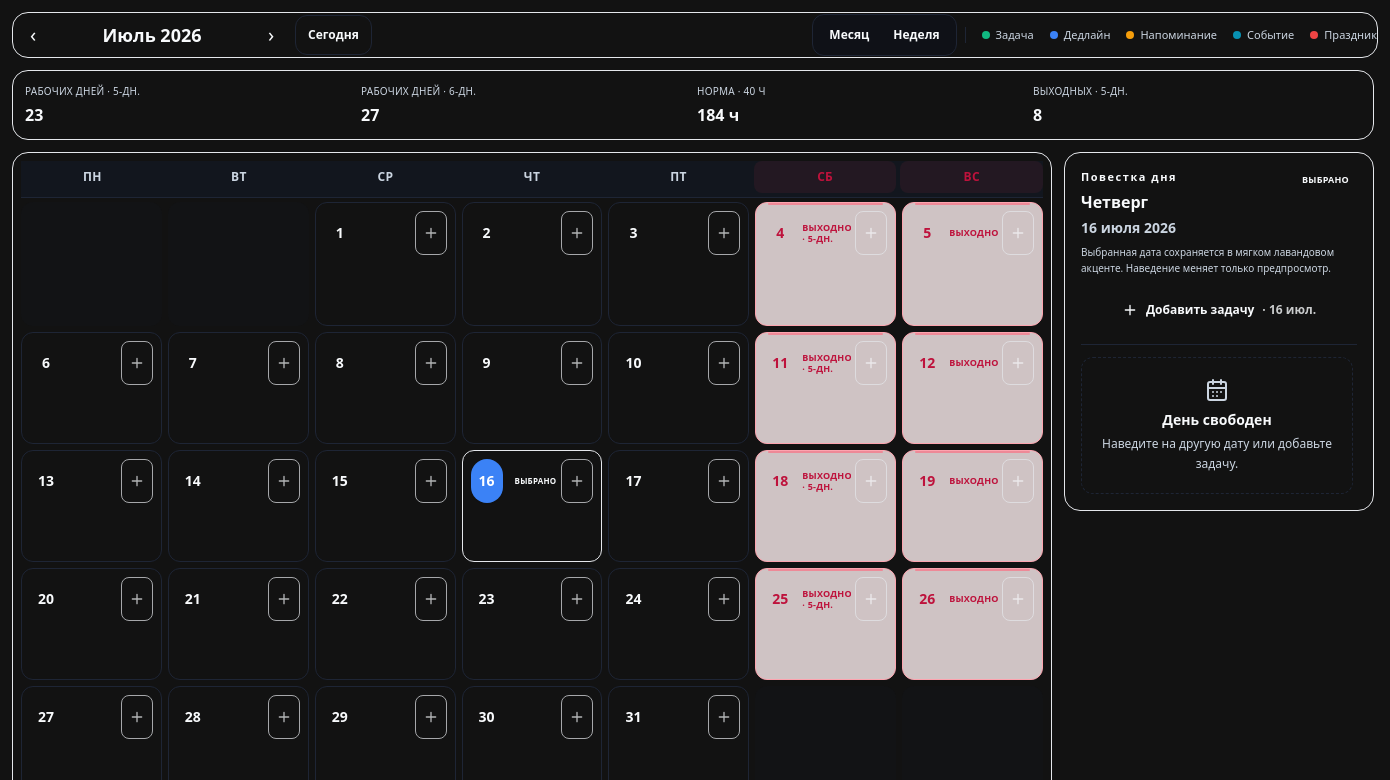
it: CalendarView › renders week mode as a readable agenda with the persistent preview
Click the button "Неделя" at (916, 35), box [881,19,952,51]
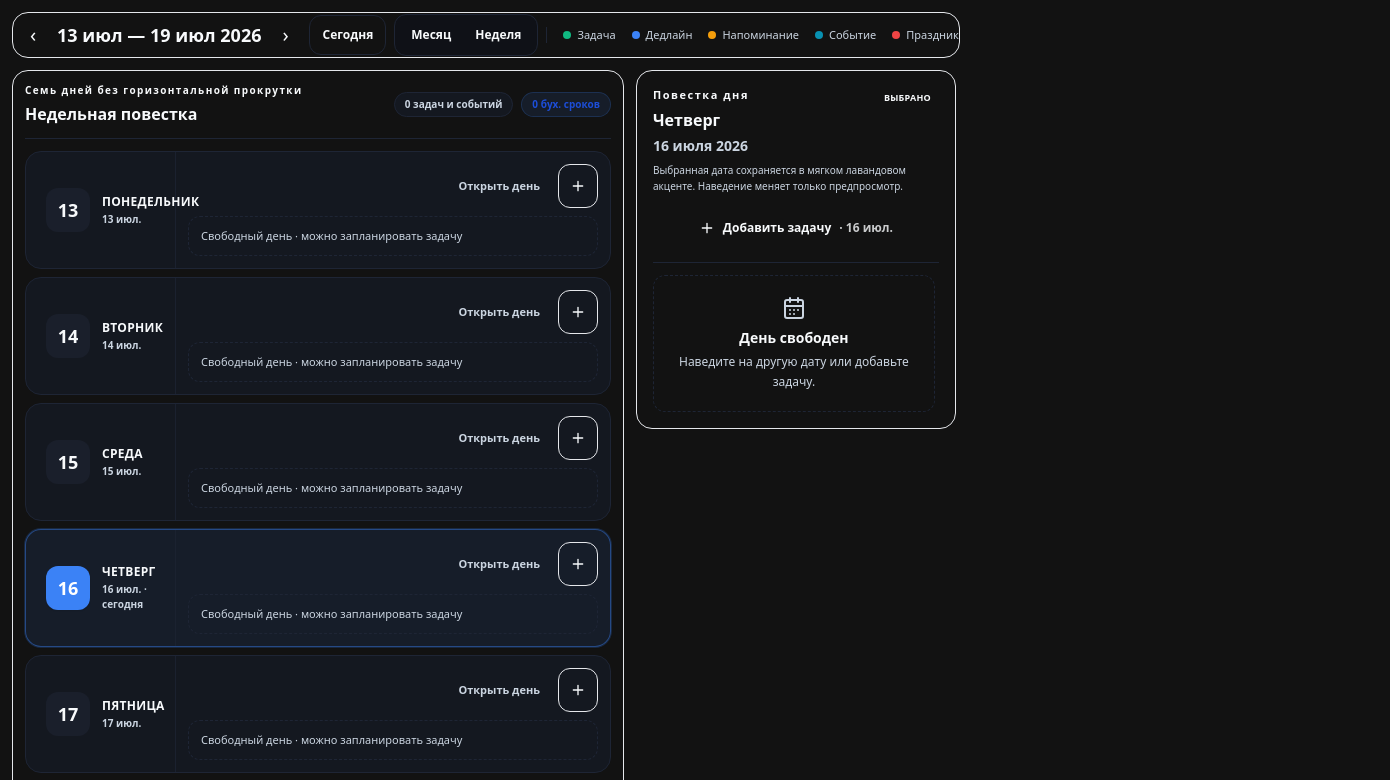
Check: the element named "Предпросмотр дня" is shown, box [636,70,956,429]
Check: the heading "Недельная повестка" is shown, box [25,103,197,125]
Check: the number of buttons "Открыть день" is 7
